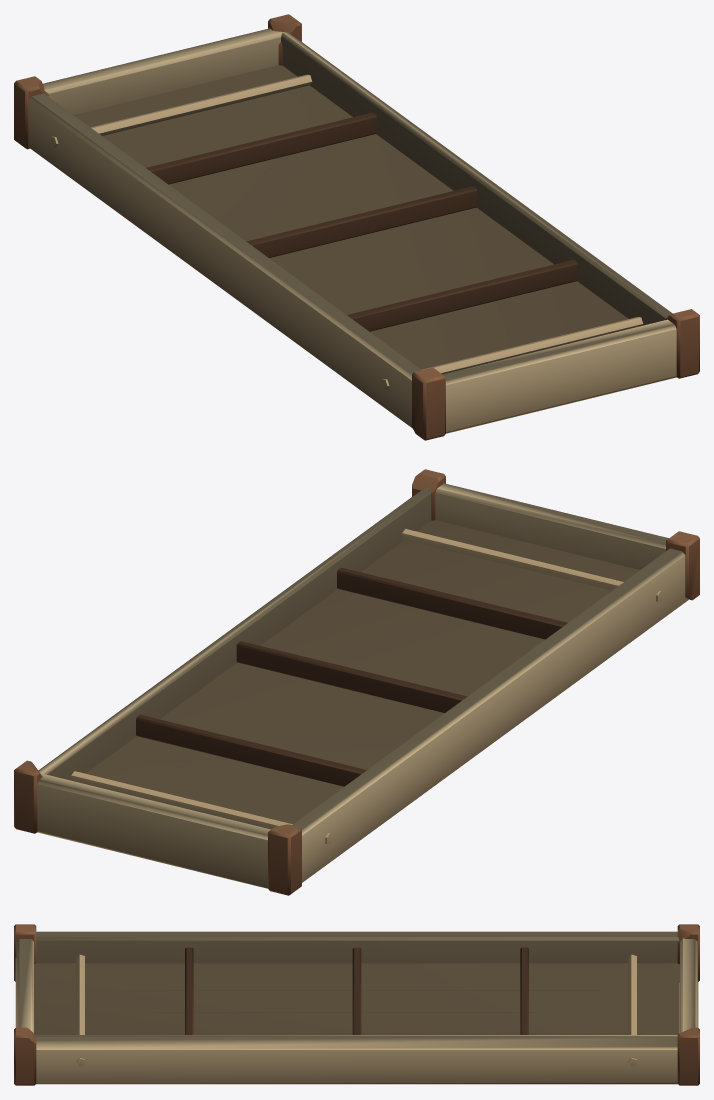
File: ruins-pc-tray.glb
3 renders of one model, top to bottom at view 1: azimuth 30°, elevation 25°; view 2: azimuth 150°, elevation 25°; view 3: azimuth 270°, elevation 25°, orthographic. The views are drawn at different scales.
Parts seen in each view (by area): view 1: 0_ruins_pc_tray; view 2: 0_ruins_pc_tray; view 3: 0_ruins_pc_tray.
Boxes of the visible parts, <box> form: 0_ruins_pc_tray: <box>14,14,699,440</box>; 0_ruins_pc_tray: <box>14,469,699,895</box>; 0_ruins_pc_tray: <box>14,924,699,1085</box>.
Size of the model in its own units: 0.764 by 0.162 by 1.96.
